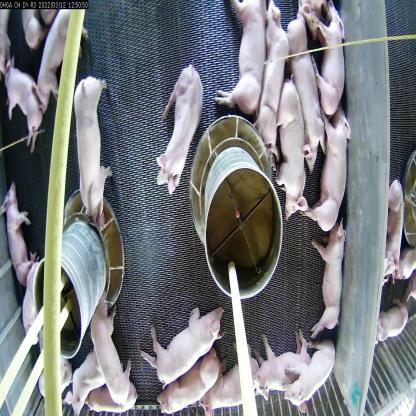Pig: (155, 63, 211, 200), (147, 290, 222, 387), (71, 63, 113, 214), (284, 1, 318, 158), (244, 332, 318, 404), (38, 3, 85, 116), (90, 302, 140, 407), (223, 0, 263, 126), (250, 20, 288, 144), (196, 355, 269, 415), (312, 113, 350, 227), (311, 0, 347, 117), (318, 209, 347, 352), (274, 71, 304, 200), (156, 352, 220, 407), (290, 348, 336, 415), (3, 176, 32, 282), (5, 51, 40, 127), (64, 352, 106, 411)
